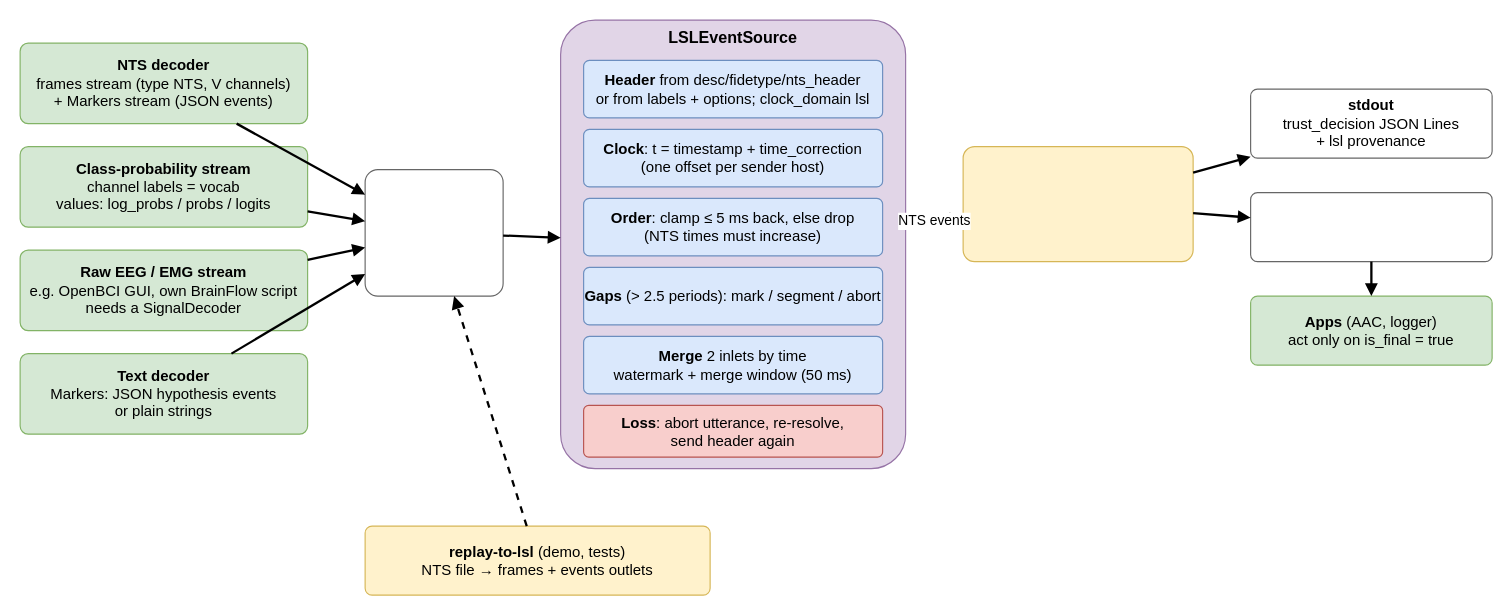
Some shapes in this 1512 by 615 pixel diagram are drawn without their labels. The centre of each missing label's shape, as x and y in pixels:
LSL localhost / LAN LSL timestamps: pixel 433 232
LSL outlet fidetype.decisions (Markers): pixel 1370 226
StreamingTrustLayer frozen config frames or hypothesis route: pixel 1077 203
